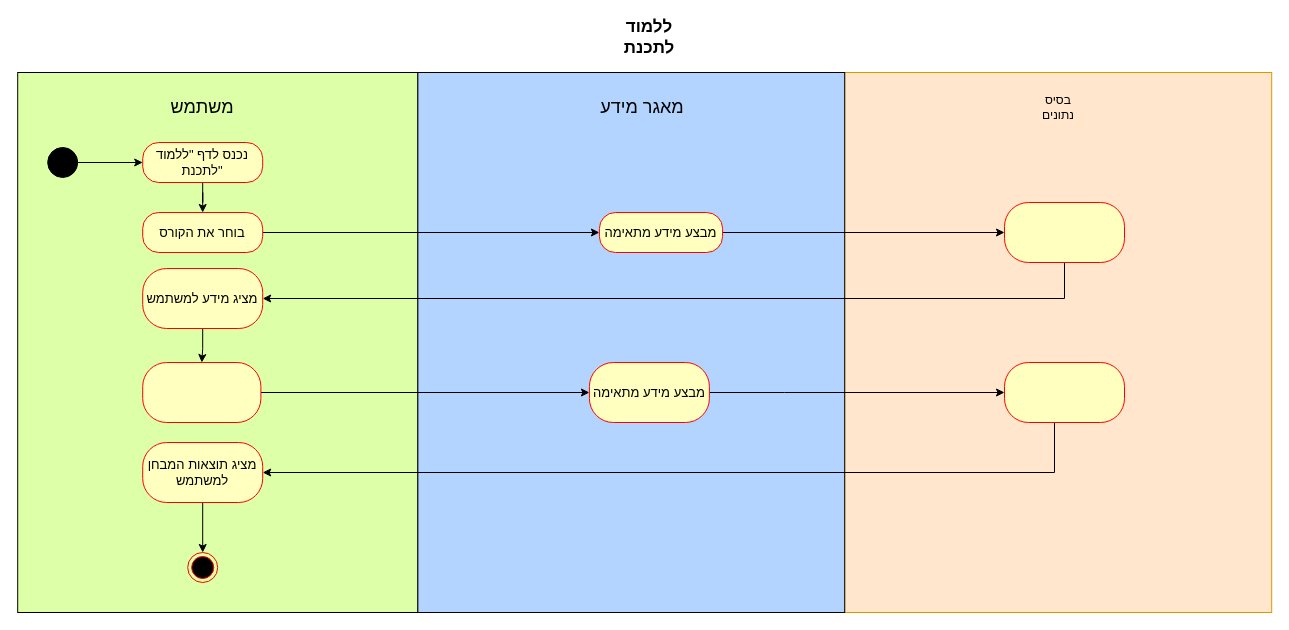
Some shapes in this 1289 by 630 pixel diagram are drawn without their labels. Here are the shapes that lost their labels. From the top down, the centre of each, then its label:
the point at 1064,232: שומר התקדמות בקורס בנתוני המשתמש
the point at 201,392: לוחץ על הכפתור "להתחיל מבחן"
the point at 1064,392: שומר תוצאות המבחן בנתוני המשתמש
